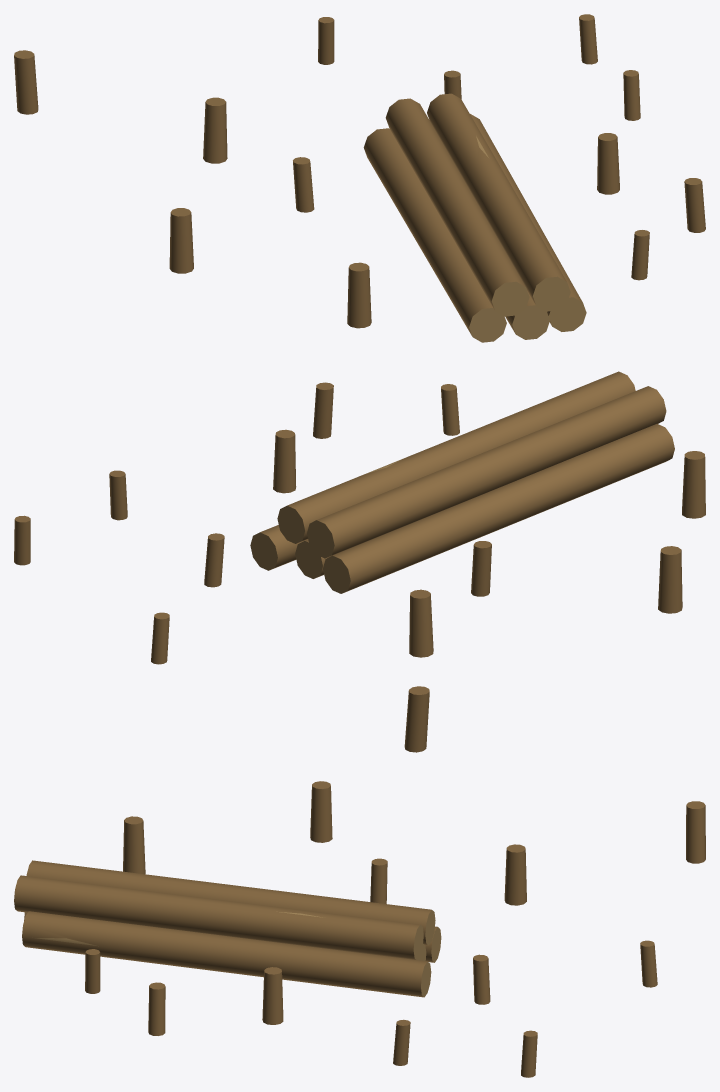
Rendered from quaternius-ultimate-fantasy-rts-resource-tree-group-cut.glb.
The picture shows the model from 3 angles, top to bottom: view 1: azimuth 30°, elevation 25°; view 2: azimuth 150°, elevation 25°; view 3: azimuth 270°, elevation 25°; orthographic projection. The views are drawn at different scales.
Visible parts, largest first — view 1: Resource_Tree_Group_Cut; view 2: Resource_Tree_Group_Cut; view 3: Resource_Tree_Group_Cut.
Boxes of the visible parts, x1=… form: Resource_Tree_Group_Cut: x1=14, y1=14, x2=705, y2=342; Resource_Tree_Group_Cut: x1=14, y1=371, x2=705, y2=752; Resource_Tree_Group_Cut: x1=14, y1=781, x2=705, y2=1077.
Bounding box in the file's own units: 1.53 × 0.1701 × 1.84.
